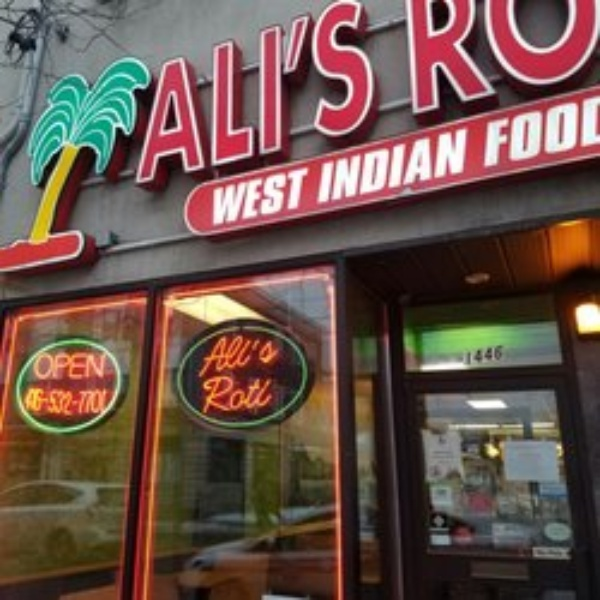text: (177, 1, 192, 185), (193, 1, 208, 185), (209, 1, 224, 185), (225, 1, 240, 185), (241, 1, 256, 185), (257, 1, 272, 185), (273, 1, 288, 185), (289, 1, 304, 185), (305, 1, 320, 185), (321, 1, 336, 185), (337, 1, 352, 185), (353, 1, 368, 185), (401, 1, 416, 116), (417, 1, 432, 116), (433, 1, 448, 116), (449, 1, 464, 116), (465, 1, 480, 116), (481, 1, 495, 116), (369, 1, 377, 185), (337, 128, 352, 207), (353, 128, 368, 207), (369, 128, 384, 207), (385, 128, 400, 207), (401, 128, 416, 207), (417, 128, 432, 207), (433, 128, 448, 207), (449, 128, 464, 207), (497, 97, 512, 173), (513, 97, 528, 173), (529, 97, 544, 173), (545, 97, 560, 173), (561, 97, 576, 173), (322, 128, 336, 207), (225, 166, 240, 226), (241, 166, 256, 226), (257, 166, 272, 226), (273, 166, 288, 226), (289, 166, 304, 226), (485, 97, 496, 173), (212, 166, 224, 226), (225, 332, 240, 377), (241, 332, 256, 377), (257, 332, 272, 377), (209, 375, 224, 413), (225, 375, 240, 413), (241, 375, 256, 413), (257, 375, 272, 413), (173, 1, 176, 185), (212, 332, 224, 377), (49, 387, 64, 418), (49, 351, 64, 380), (65, 351, 80, 380), (81, 351, 96, 380), (34, 351, 48, 380), (81, 389, 96, 416), (97, 389, 109, 416), (465, 344, 480, 365), (481, 344, 496, 365), (577, 97, 581, 173), (273, 332, 279, 377), (33, 389, 44, 413), (97, 351, 106, 380), (65, 387, 73, 418), (22, 389, 32, 413), (202, 375, 208, 413), (305, 166, 308, 226), (399, 1, 400, 116), (497, 344, 502, 365), (77, 389, 80, 416), (465, 128, 466, 207), (461, 344, 464, 365), (46, 387, 48, 418)
